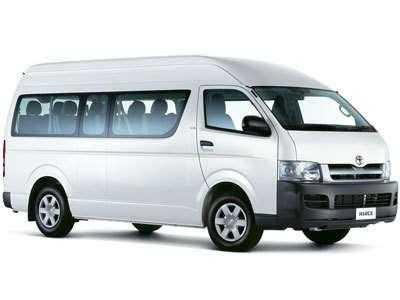car: (1, 54, 400, 251)
